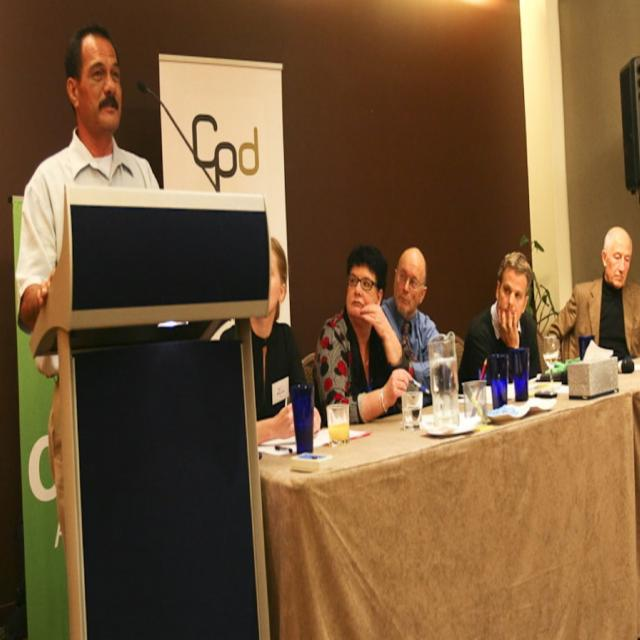desk: (39, 175, 272, 616)
laptop: (62, 332, 269, 634), (64, 186, 270, 328)
person: (14, 27, 162, 350), (314, 243, 416, 428), (248, 236, 313, 430), (549, 226, 639, 363), (458, 251, 542, 384), (379, 247, 442, 376)
